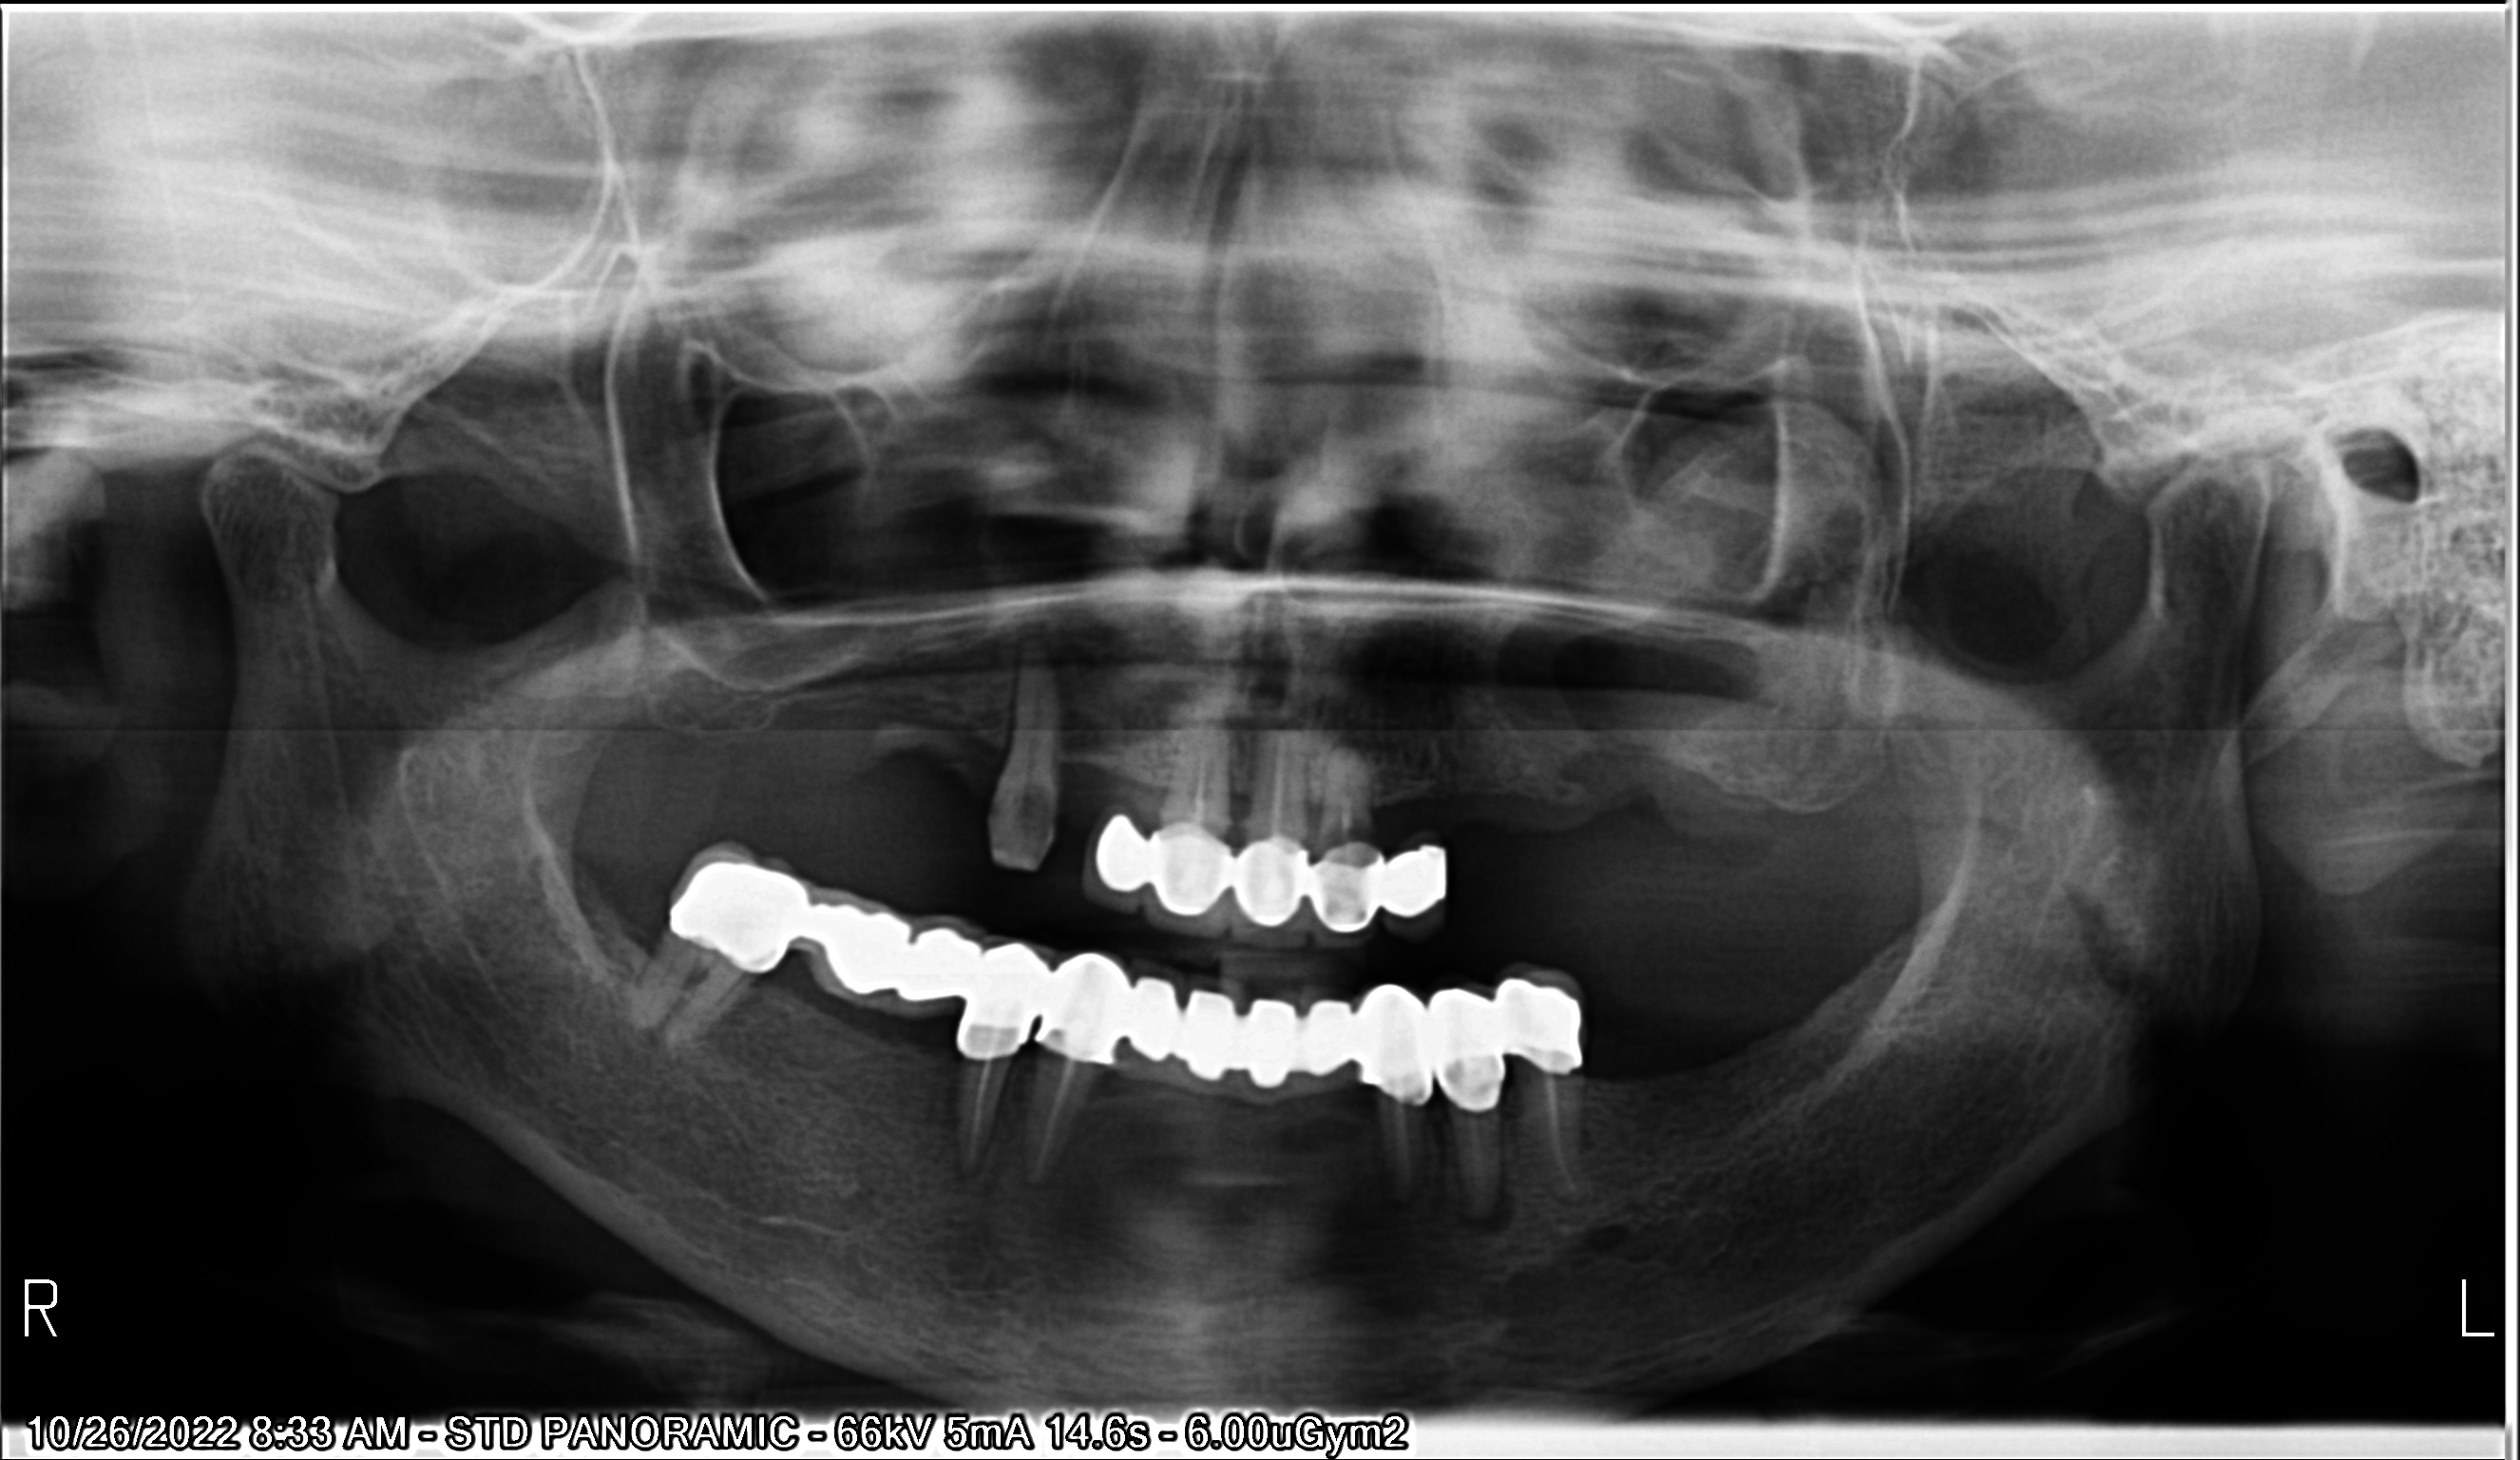API: (1450, 1170, 1532, 1271)
CAR: (1013, 770, 1065, 859), (1554, 1039, 1605, 1098)
END: (1021, 1043, 1099, 1211), (1516, 1062, 1591, 1206), (941, 1043, 1009, 1191), (1367, 1095, 1433, 1217), (1162, 718, 1235, 827), (1249, 723, 1308, 836), (1320, 739, 1377, 848), (1450, 1104, 1504, 1215)
FUR: (665, 942, 714, 1022)
PRR: (625, 850, 1645, 1100), (1087, 779, 1466, 939)
